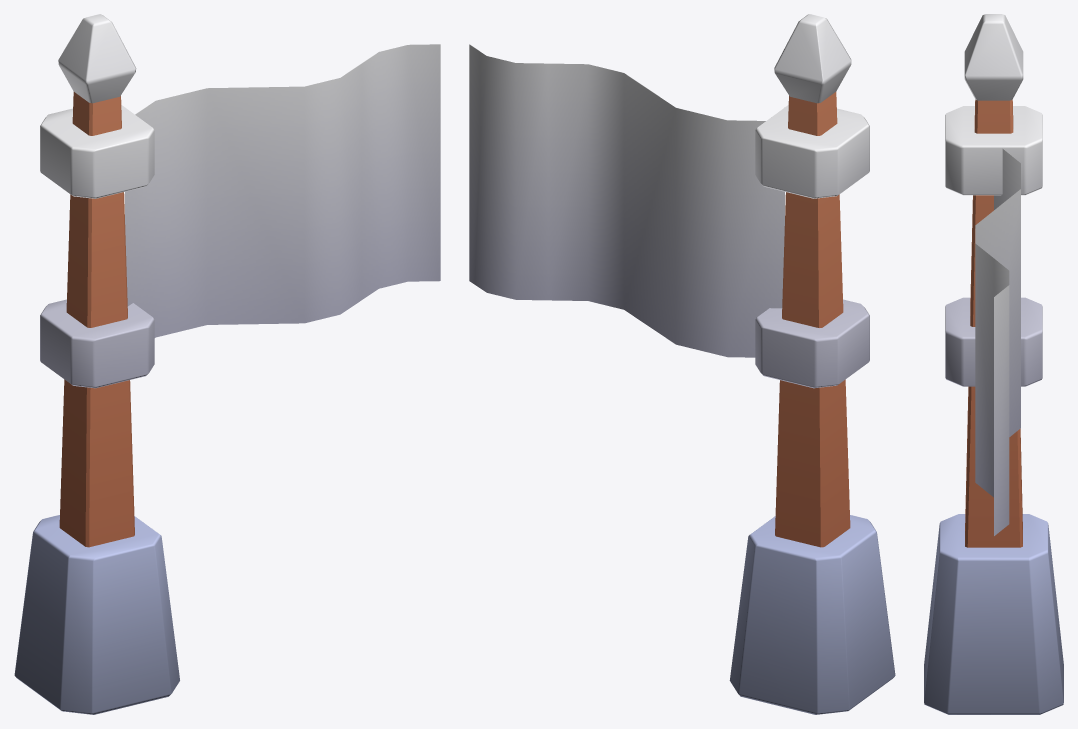
Rendered from kenney-pirate__flag.glb.
The picture shows the model from 3 angles, left to right: view 1: azimuth 30°, elevation 25°; view 2: azimuth 150°, elevation 25°; view 3: azimuth 270°, elevation 25°; orthographic projection.
Visible parts, largest first — view 1: flag; view 2: flag; view 3: flag.
Boxes of the visible parts, x1,y1,x2,y2 form: flag: [14, 14, 440, 714]; flag: [469, 14, 895, 714]; flag: [924, 14, 1063, 714].
Bounding box in the file's own units: 1.34 × 2.1 × 0.3973.
1 material, 1 textured.
